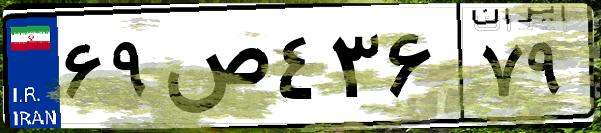3: (330, 28, 385, 110)
4: (270, 28, 330, 110)
6: (385, 28, 445, 110), (57, 26, 110, 100)
7: (475, 38, 525, 113)
9: (525, 38, 570, 115), (110, 28, 158, 98)
ص: (158, 20, 270, 120)
